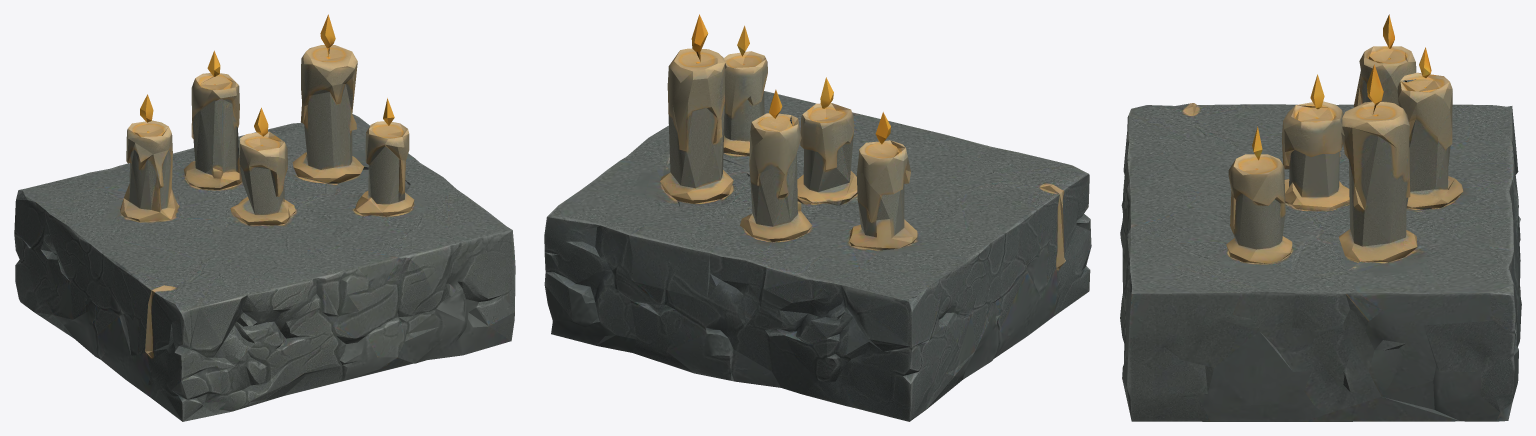
The model's file is candles-stone.hq.glb.
The picture shows the model from 3 angles, left to right: view 1: azimuth 30°, elevation 25°; view 2: azimuth 150°, elevation 25°; view 3: azimuth 270°, elevation 25°; orthographic projection. The views are drawn at different scales.
Parts seen in each view (by area): view 1: output_unwrapped; view 2: output_unwrapped; view 3: output_unwrapped.
Part boxes in pixels (x1,y1,x2,y2): output_unwrapped: (14,14,515,421); output_unwrapped: (544,14,1091,421); output_unwrapped: (1120,14,1521,421).
Bounding box in the file's own units: 1.9 × 1.43 × 1.67.
Materials: 1 (1 with a texture image).
